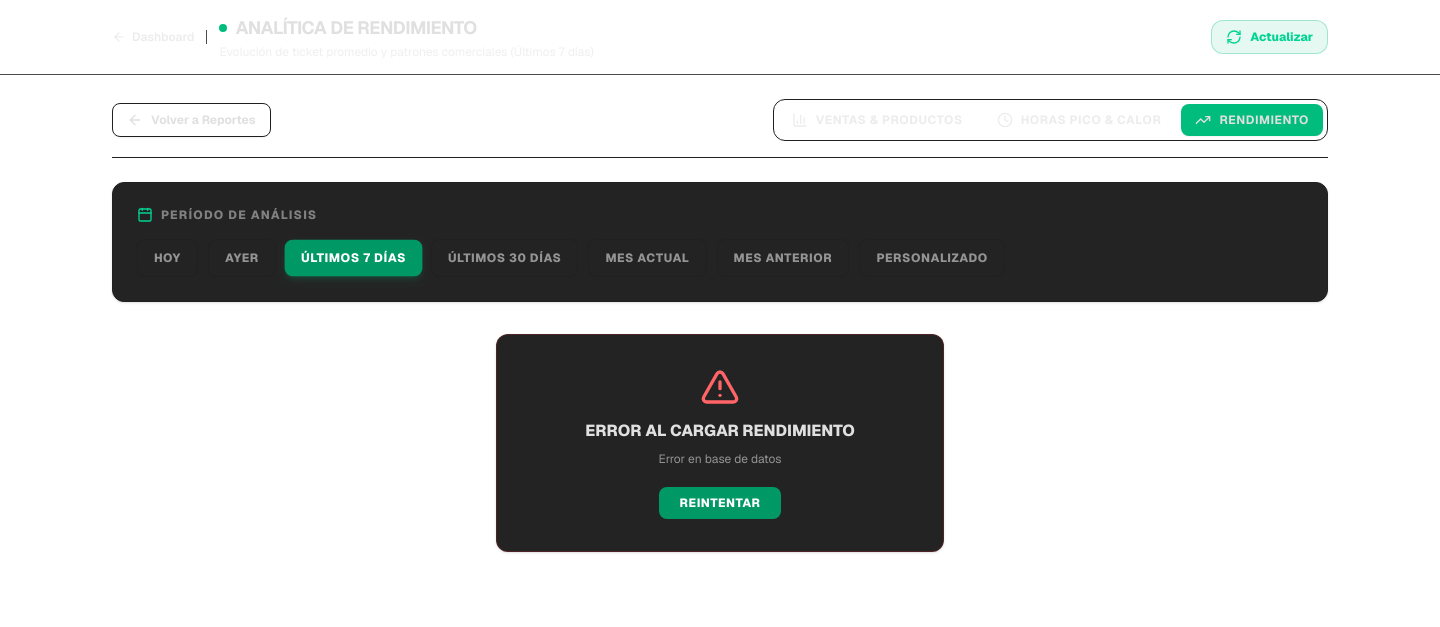
it: PerformanceAnalyticsView Component › renders error state when API fails and allows retry
This screenshot has width=1440, height=627.
Expected: the heading "Error al Cargar Rendimiento" is shown, [585,420,855,441]
Expected: the text "Error en base de datos" is shown, [658,451,782,467]
Click the button "Reintentar" at (720, 503), box [660,487,781,519]
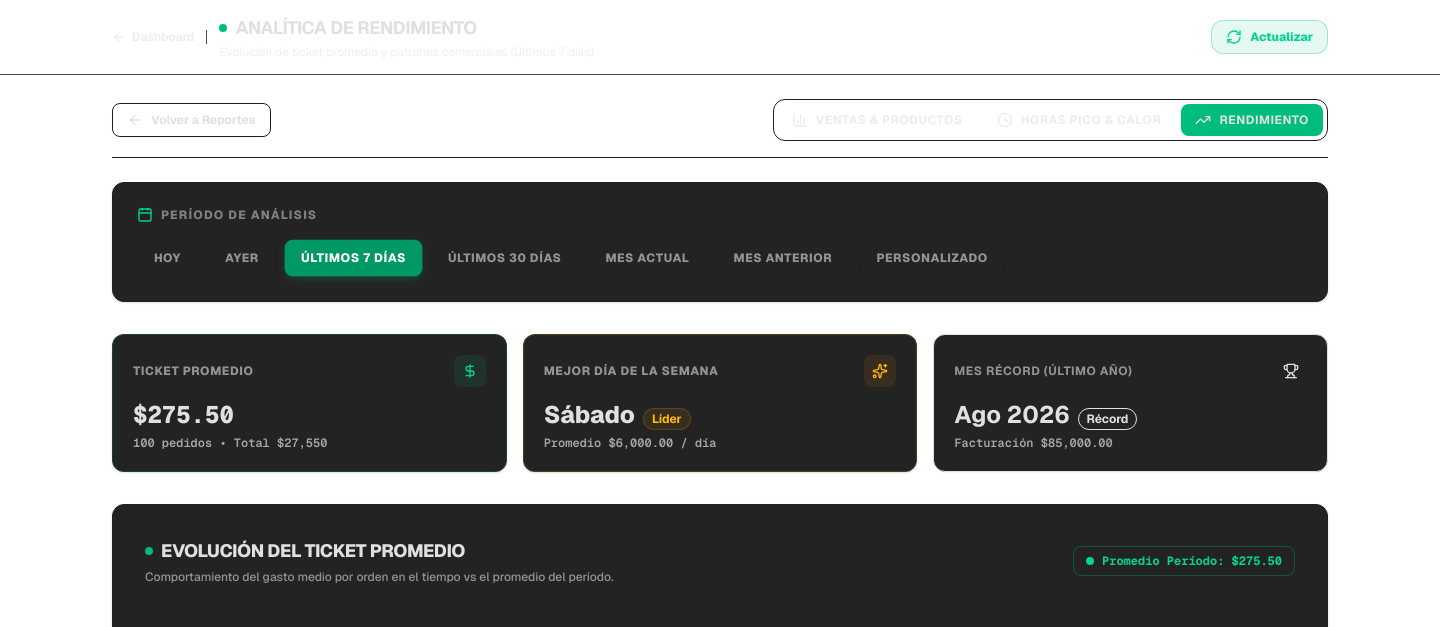
Expected: the text "Analítica de Rendimiento" is shown, [236,14,477,42]
Expected: the heading "Evolución del Ticket Promedio" is shown, [145,539,465,562]
